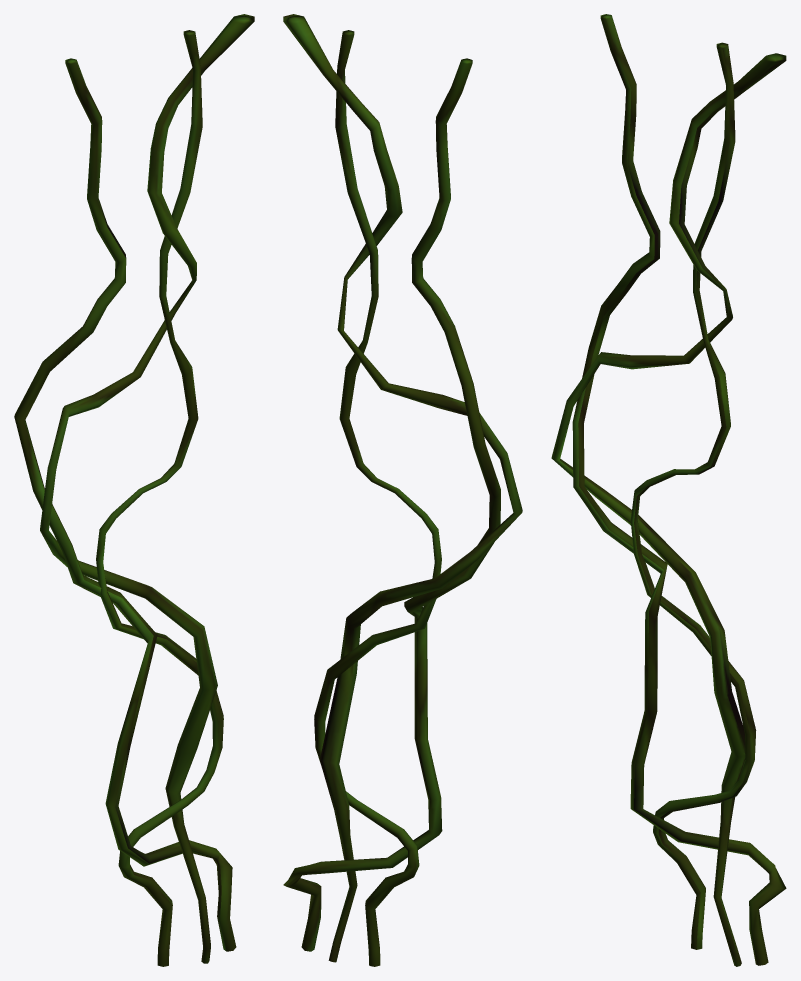
File: Lianes_2.fbx
3 renders of one model, left to right at view 1: azimuth 30°, elevation 25°; view 2: azimuth 150°, elevation 25°; view 3: azimuth 330°, elevation 25°, orthographic.
Visible parts, largest first — view 1: Lianes; view 2: Lianes; view 3: Lianes.
Boxes of the visible parts, x1,y1,x2,y2 form: Lianes: (14,14,254,966); Lianes: (283,14,522,966); Lianes: (551,14,786,966).
Bounding box in the file's own units: 123 × 486 × 39.24.
